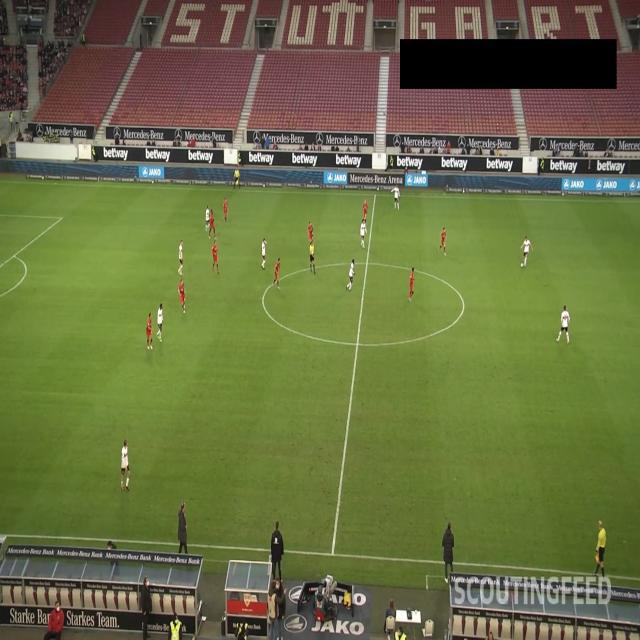ball: (520, 262, 524, 268)
